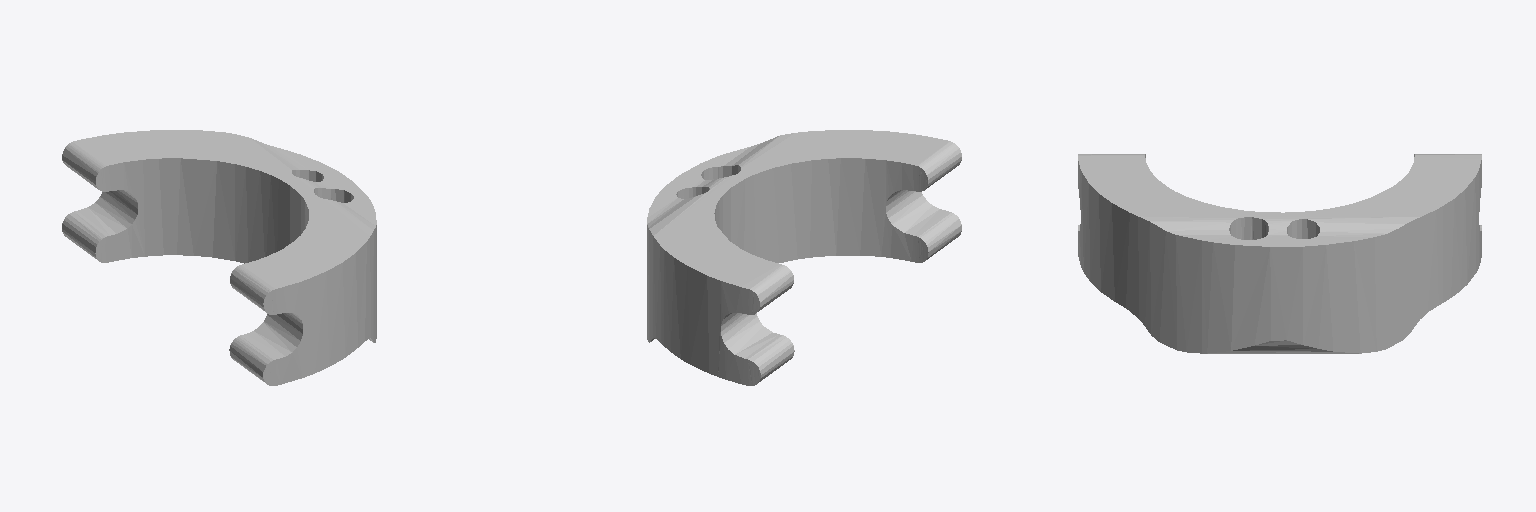
File: seg18.OBJ
3 views of the same model, side by side, from view 1: azimuth 30°, elevation 25°; view 2: azimuth 150°, elevation 25°; view 3: azimuth 270°, elevation 25° (orthographic).
Visible parts, largest first — view 1: /ambf/env/seg18_seg18; view 2: /ambf/env/seg18_seg18; view 3: /ambf/env/seg18_seg18.
Boxes of the visible parts, x1,y1,x2,y2 form: /ambf/env/seg18_seg18: [62, 130, 376, 385]; /ambf/env/seg18_seg18: [647, 130, 961, 385]; /ambf/env/seg18_seg18: [1078, 154, 1481, 353].
Size of the model in its own units: 0.0032 by 0.002 by 0.006.